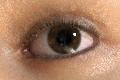eye: (49, 25, 81, 55)
